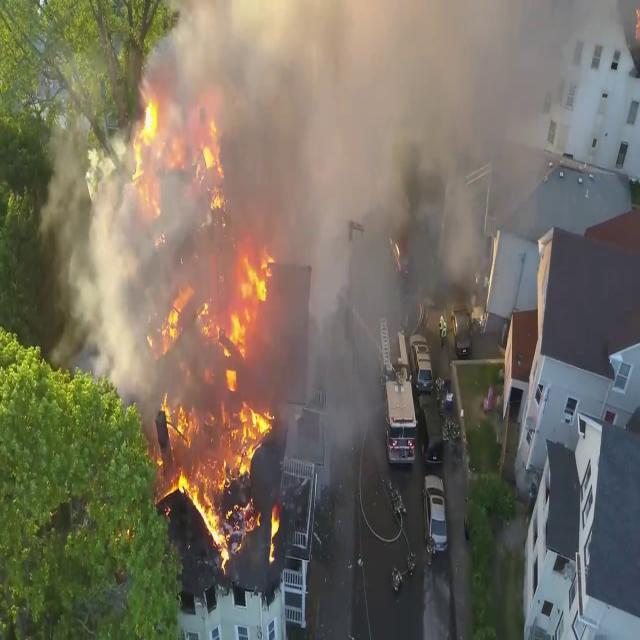Fire: (153, 247, 282, 556)
Smoke: (49, 0, 496, 440)
